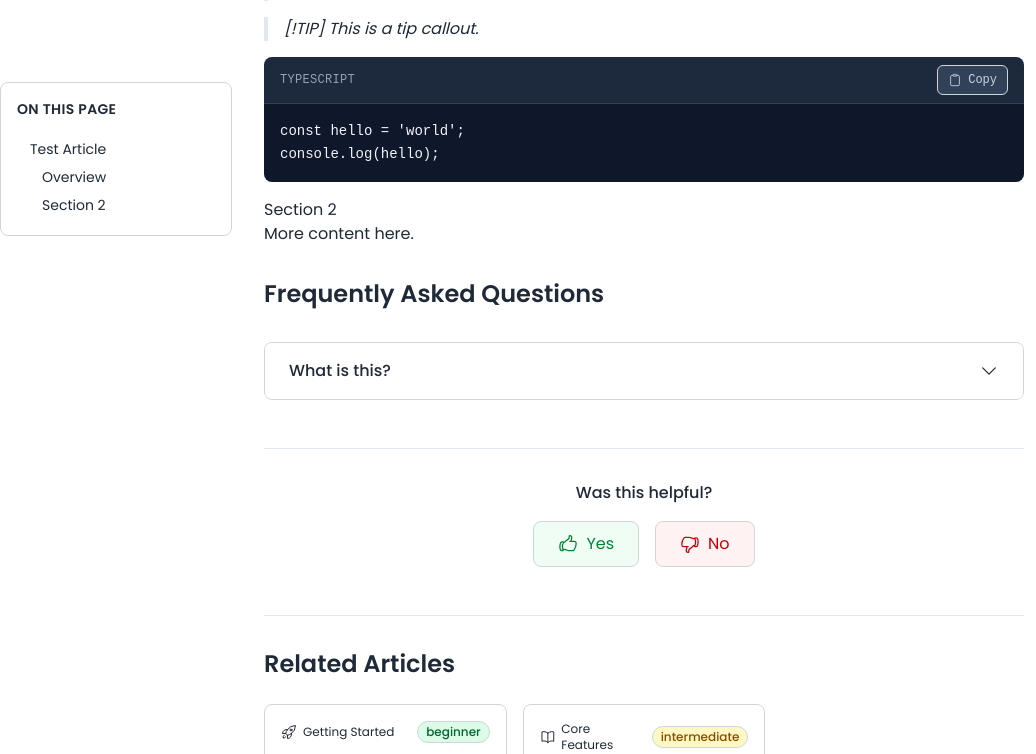
Test: HelpArticleView › FAQs › should expand FAQ on click
(page scrolled)
Step 1. Click the button "What is this?" → (340, 370), box [265,343,1023,399]
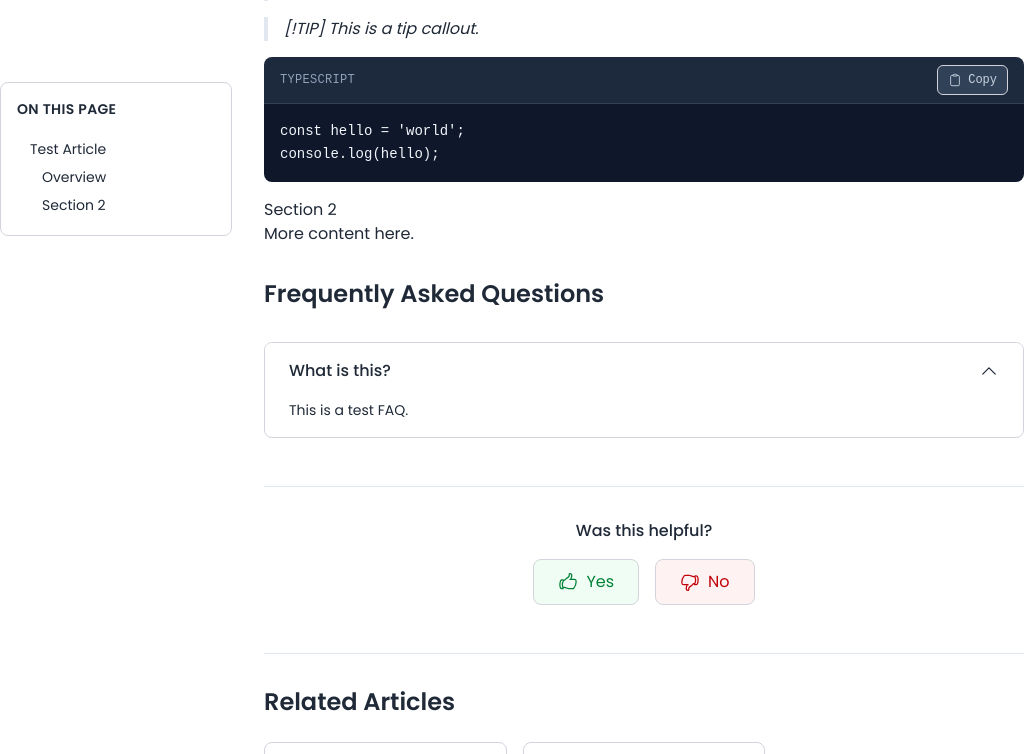
Expected: the text "This is a test FAQ." is shown, [289,400,408,420]
